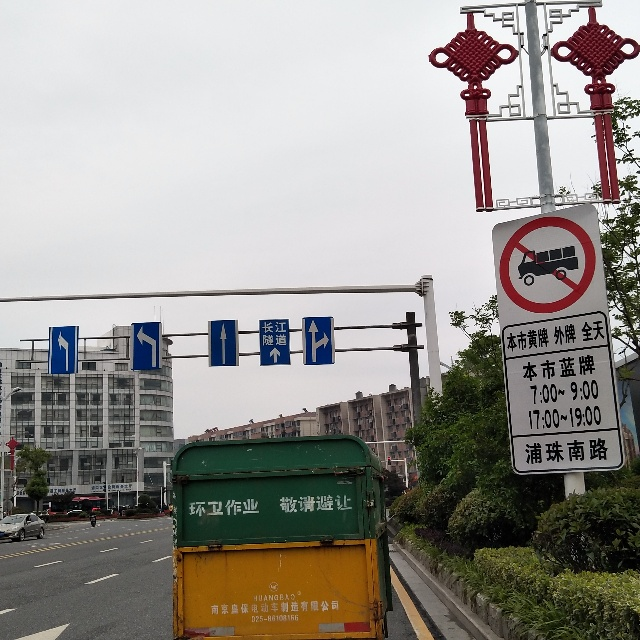left: (134, 321, 160, 371), (52, 323, 72, 373)
straight: (206, 322, 236, 369)
